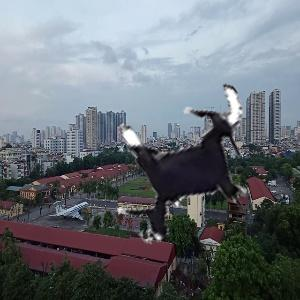drone: (88, 67, 277, 256)
